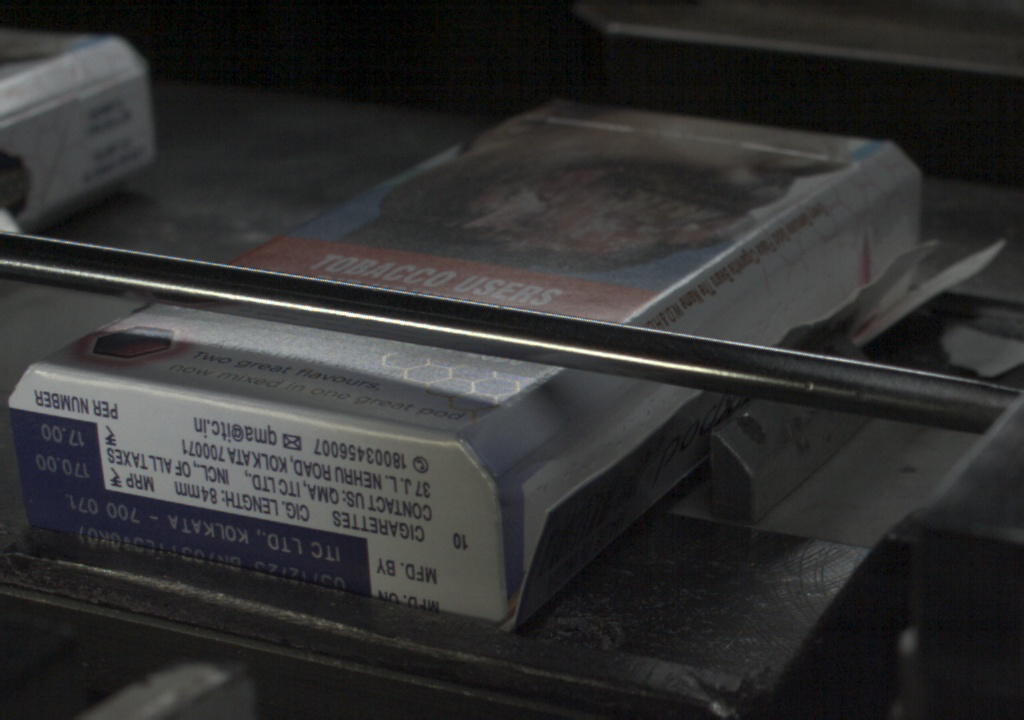g_bottom: (6, 362, 515, 623)
g_label: (19, 485, 370, 595)
ng_lmiter: (579, 383, 661, 447), (508, 446, 579, 518), (745, 277, 826, 340), (828, 232, 894, 285)
ng_miter: (870, 173, 924, 244)
price: (12, 416, 103, 483)
